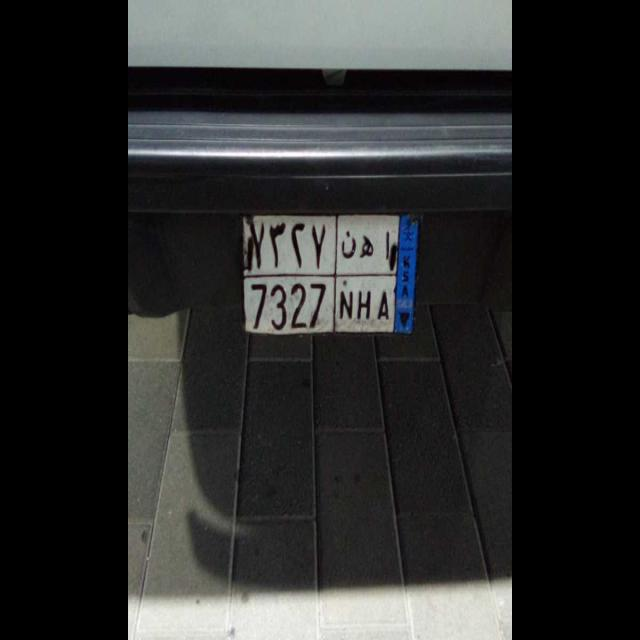license_plate: (243, 274, 397, 340)
